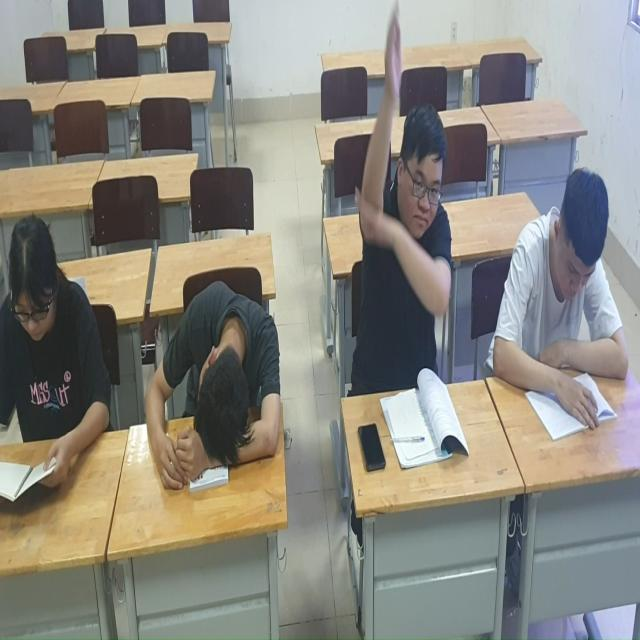raise_hand: (345, 1, 484, 456)
read: (498, 157, 635, 441), (1, 204, 128, 502)
sleep: (142, 282, 299, 488)
